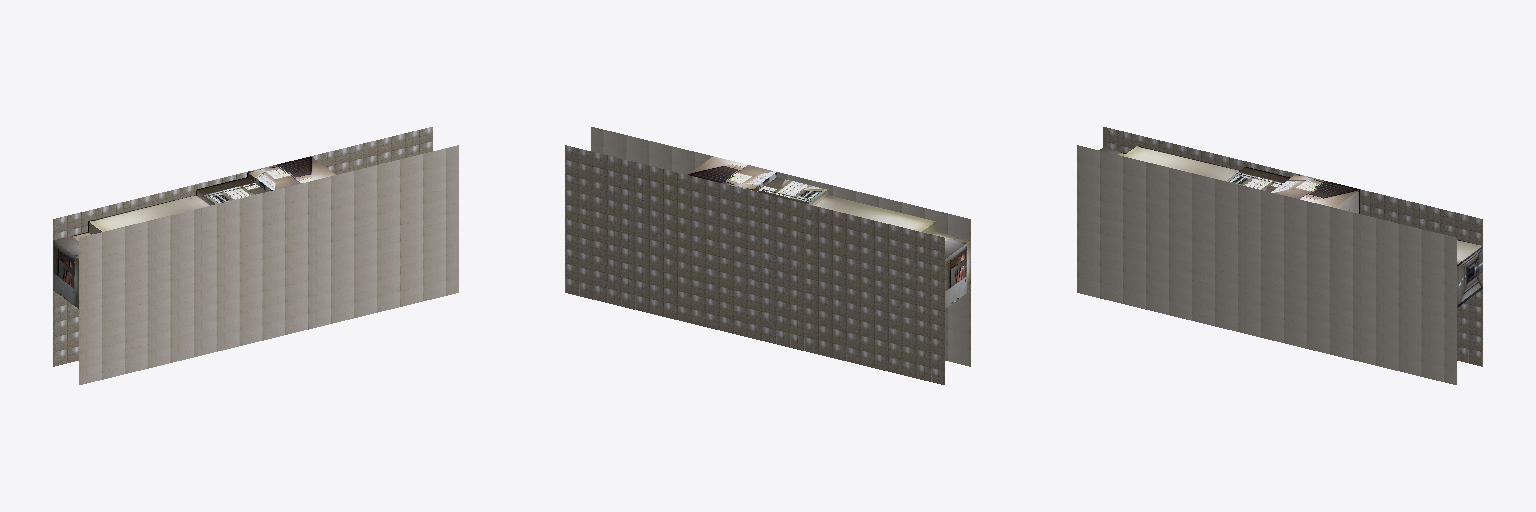
3 renders of one model, left to right at view 1: azimuth 30°, elevation 25°; view 2: azimuth 150°, elevation 25°; view 3: azimuth 330°, elevation 25°, orthographic.
Visible parts, largest first — view 1: surface20, surface19, surface7, surface3, surface0, surface5; view 2: surface19, surface20, surface7, surface3, surface0, surface5; view 3: surface20, surface19, surface7, surface3, surface10, surface5.
Boxes of the visible parts, x1,y1,x2,y2 form: surface20: [79, 145, 458, 384]; surface19: [53, 127, 432, 366]; surface7: [248, 156, 335, 189]; surface3: [88, 195, 209, 231]; surface0: [53, 241, 78, 308]; surface5: [197, 177, 266, 203]; surface19: [565, 145, 944, 384]; surface20: [591, 127, 970, 366]; surface7: [688, 156, 775, 189]; surface3: [814, 195, 935, 231]; surface0: [945, 241, 970, 308]; surface5: [757, 177, 826, 203]; surface20: [1077, 145, 1456, 384]; surface19: [1103, 127, 1482, 366]; surface7: [1271, 174, 1359, 207]; surface3: [1124, 146, 1239, 180]; surface10: [1457, 246, 1482, 307]; surface5: [1226, 167, 1289, 191].
Bounding box in the file's own units: 2235 × 830 × 260.
20 materials, 19 textured.